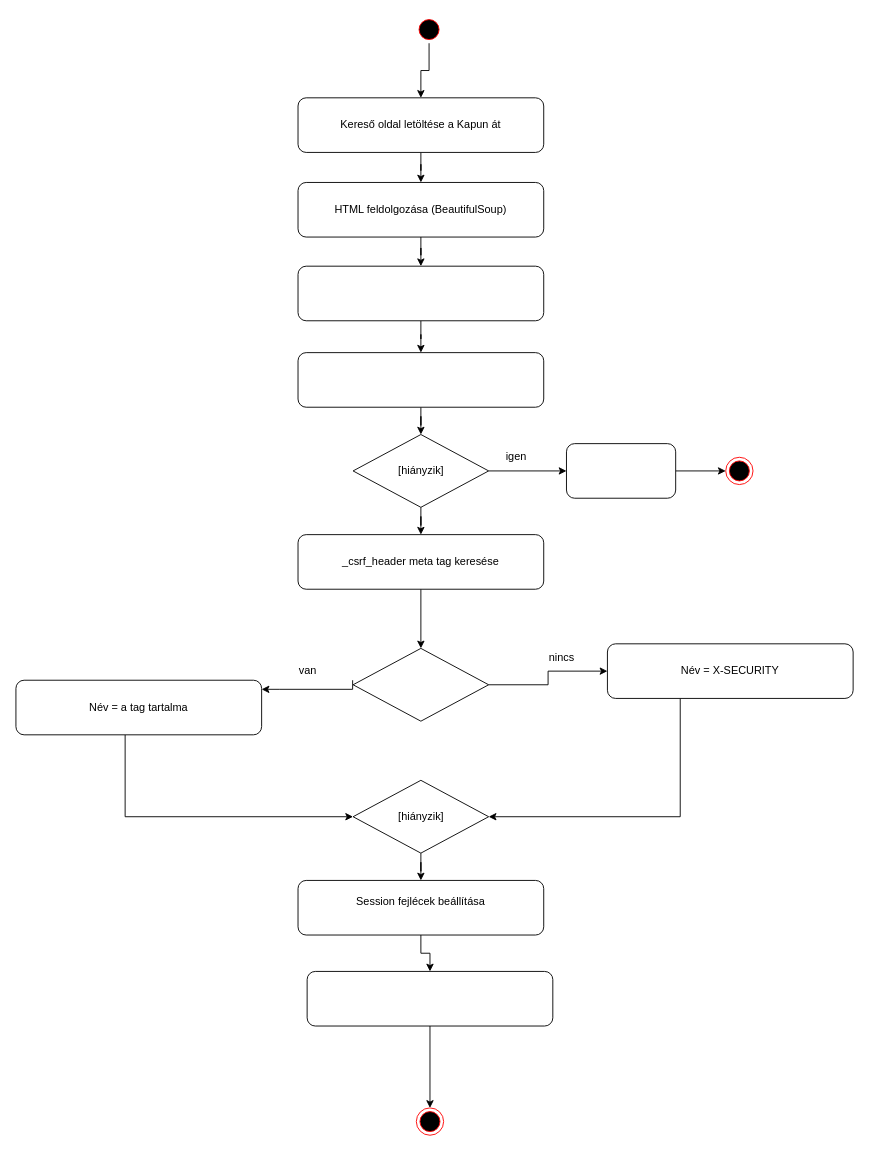
This 869x1151 diagram has some shape labels left out. Each missing label, with the box of its shape:
$rspid-jelöltek kigyűjtése: (297, 352, 544, 407)
(jelöltek, csrf) visszaadása: (306, 971, 553, 1026)
_csrf meta tag keresése: (297, 265, 544, 321)
RuntimeError: (566, 443, 676, 498)
